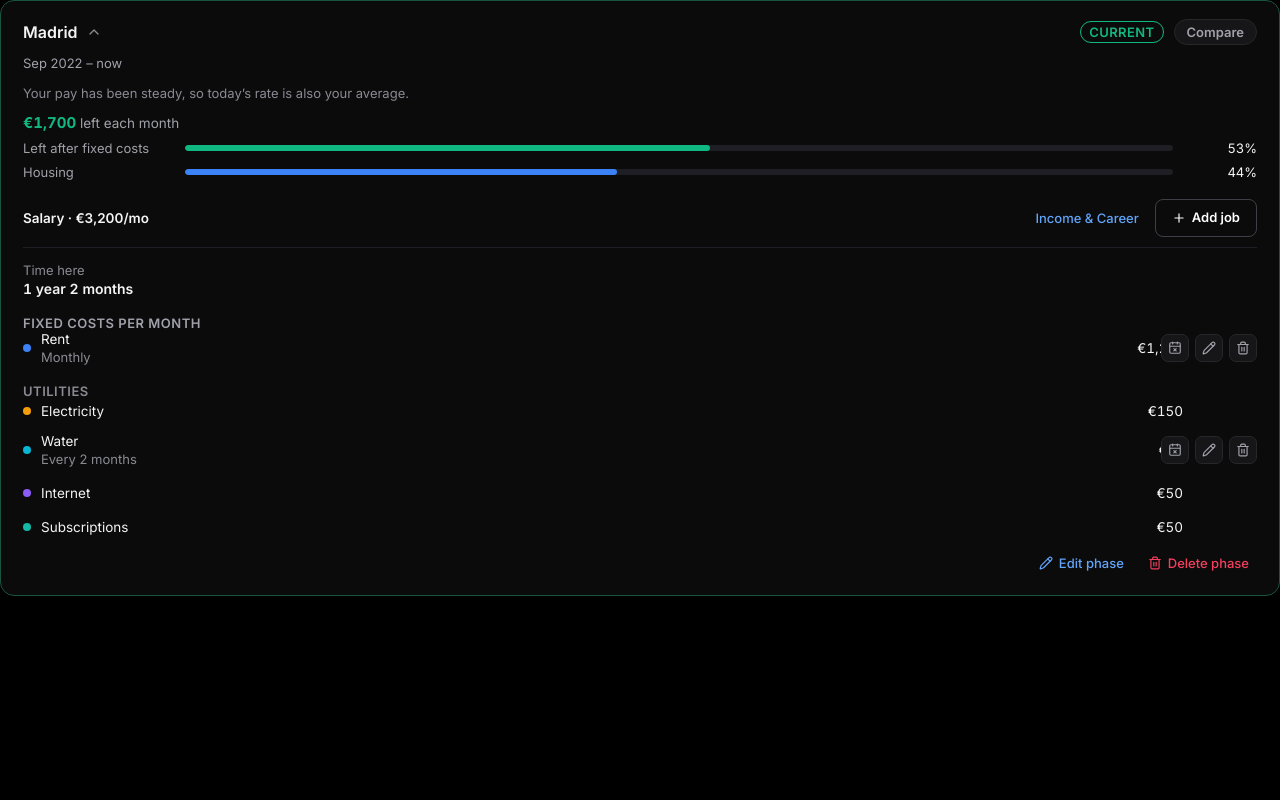
Test: LivingPhaseCard phase actions › explains a failed delete
This screenshot has width=1280, height=800.
Click the button "Delete phase" at (1198, 562), box [1140, 548, 1257, 576]
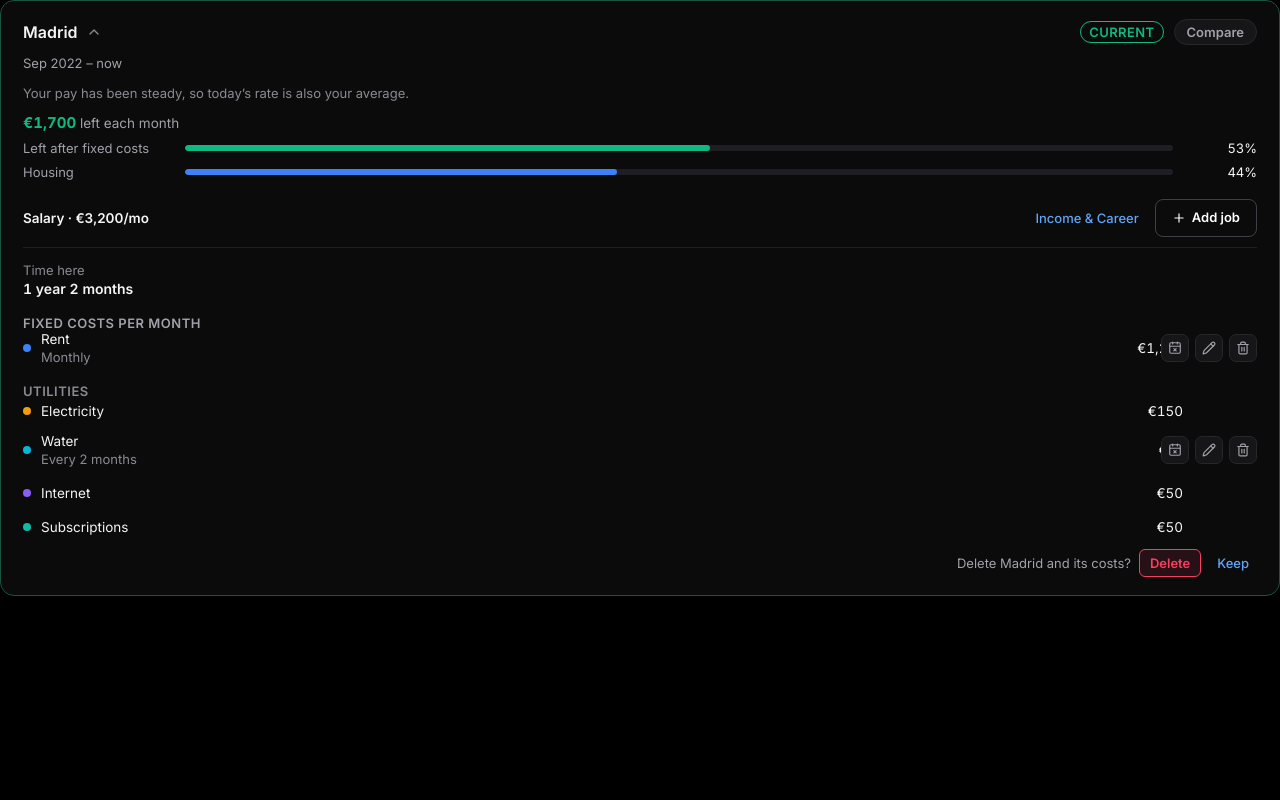
Click the button "Delete" at (1170, 562), box [1139, 548, 1201, 576]
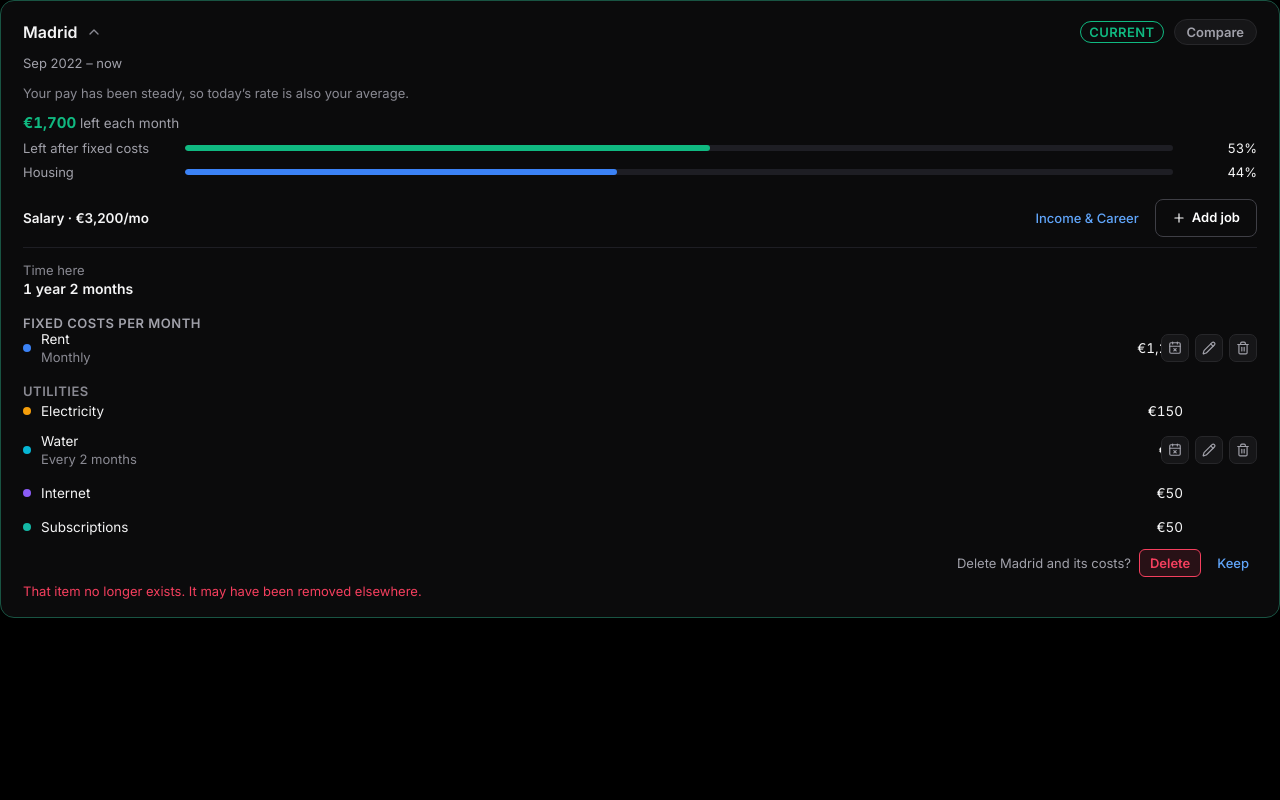
Now the text "That item no longer exists. It may have been removed elsewhere." is shown, box [23, 582, 422, 598]
